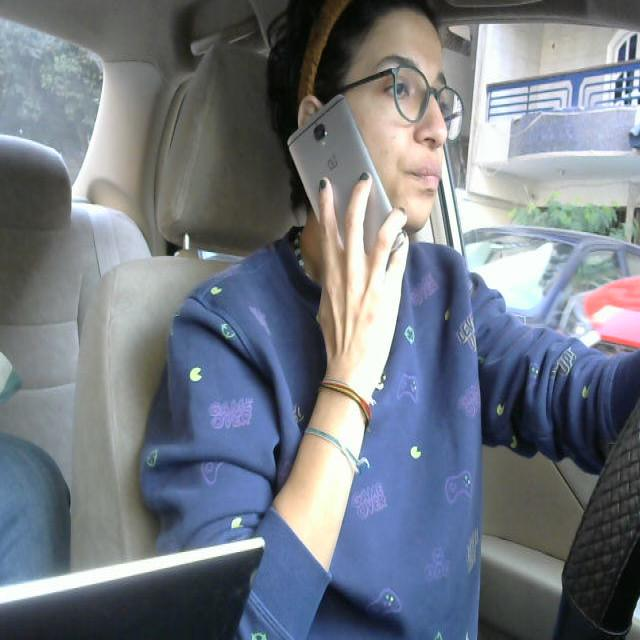mobile use: (290, 95, 410, 287)
